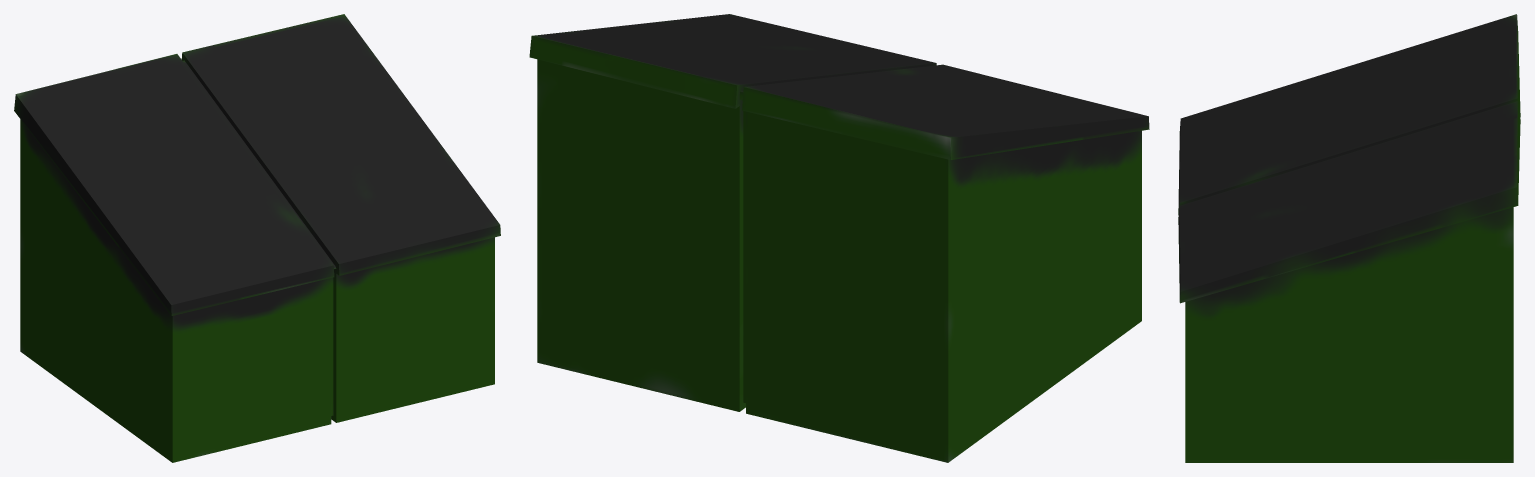
Rendered from Garbage_Bin.fbx.
3 renders of one model, left to right at view 1: azimuth 30°, elevation 25°; view 2: azimuth 150°, elevation 25°; view 3: azimuth 270°, elevation 25°, orthographic. The views are drawn at different scales.
Parts seen in each view (by area): view 1: GarbageBin A; view 2: GarbageBin A; view 3: GarbageBin A.
Part boxes in pixels (box(x1,y1,x2,y2)): GarbageBin A: box(14, 14, 500, 462); GarbageBin A: box(529, 14, 1149, 462); GarbageBin A: box(1178, 14, 1520, 462).
Size of the model in its own units: 156 by 116 by 129.
